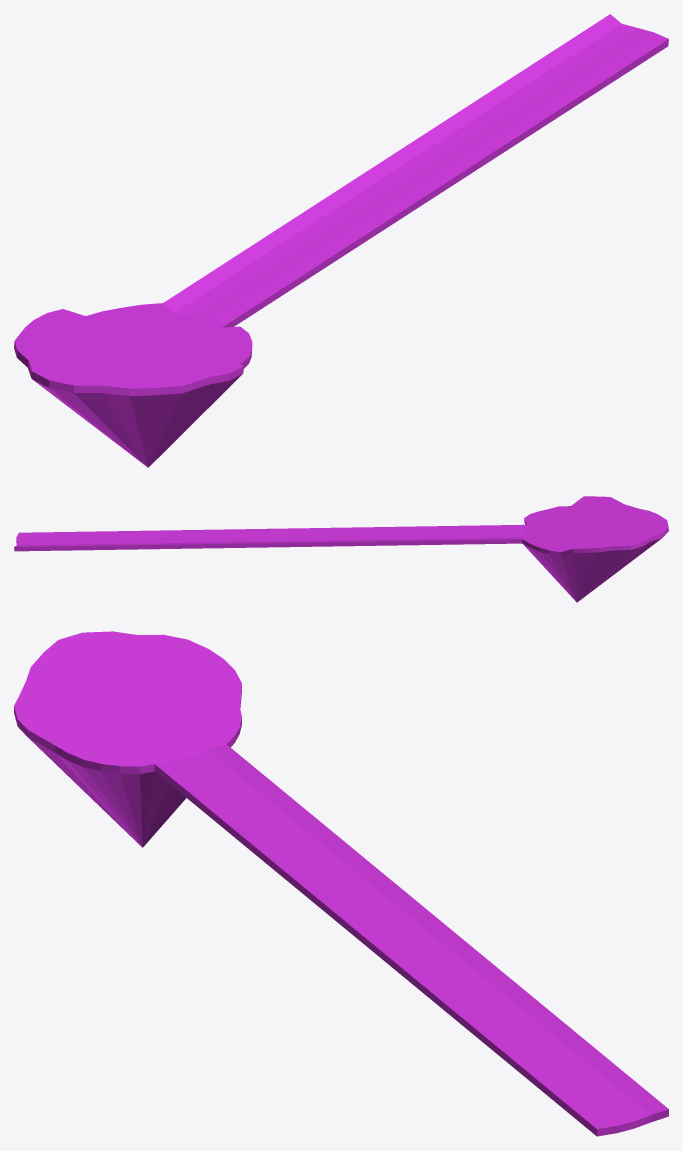
The model's file is spawn.fbx.
3 renders of one model, top to bottom at view 1: azimuth 30°, elevation 25°; view 2: azimuth 150°, elevation 25°; view 3: azimuth 270°, elevation 25°, orthographic. The views are drawn at different scales.
Visible parts, largest first — view 1: Cone; view 2: Cone; view 3: Cone.
Boxes of the visible parts, <box> form: Cone: <box>14,14,668,467</box>; Cone: <box>14,496,668,602</box>; Cone: <box>14,631,668,1136</box>.
Size of the model in its own units: 1600 by 249 by 981.
